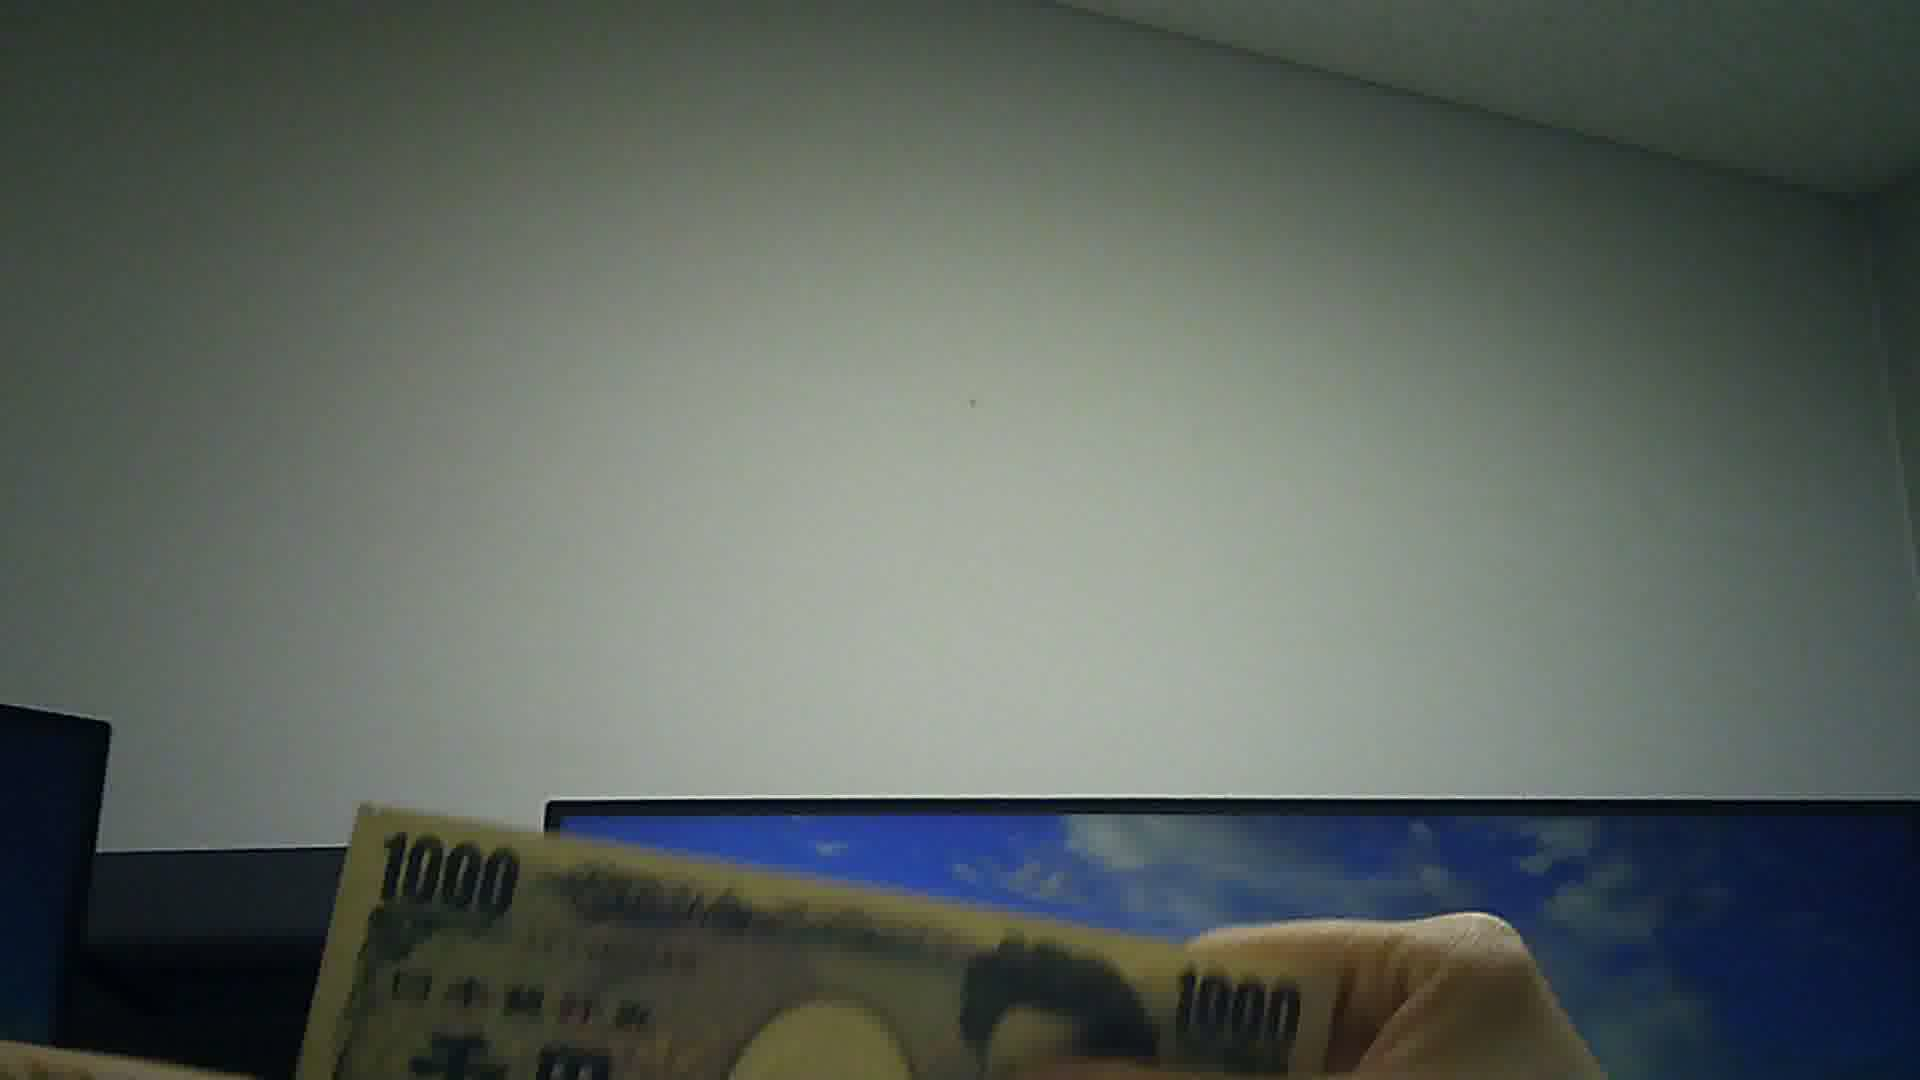1,000 Yen: (291, 800, 1350, 1073)
